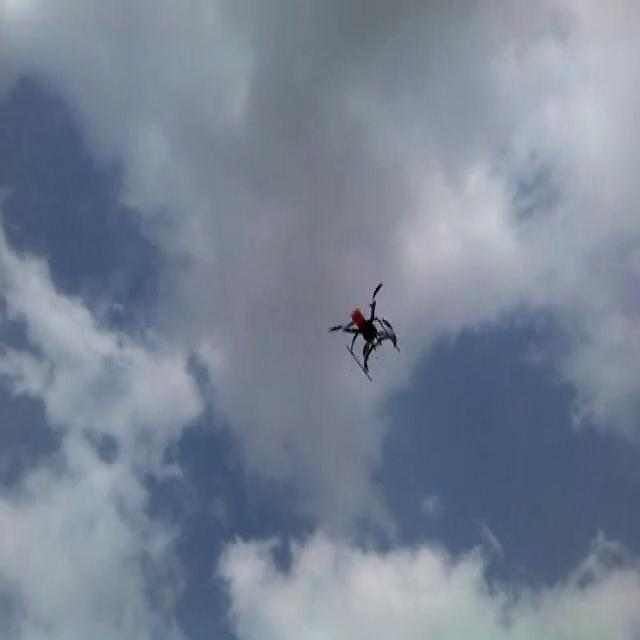drone: (327, 279, 401, 379)
